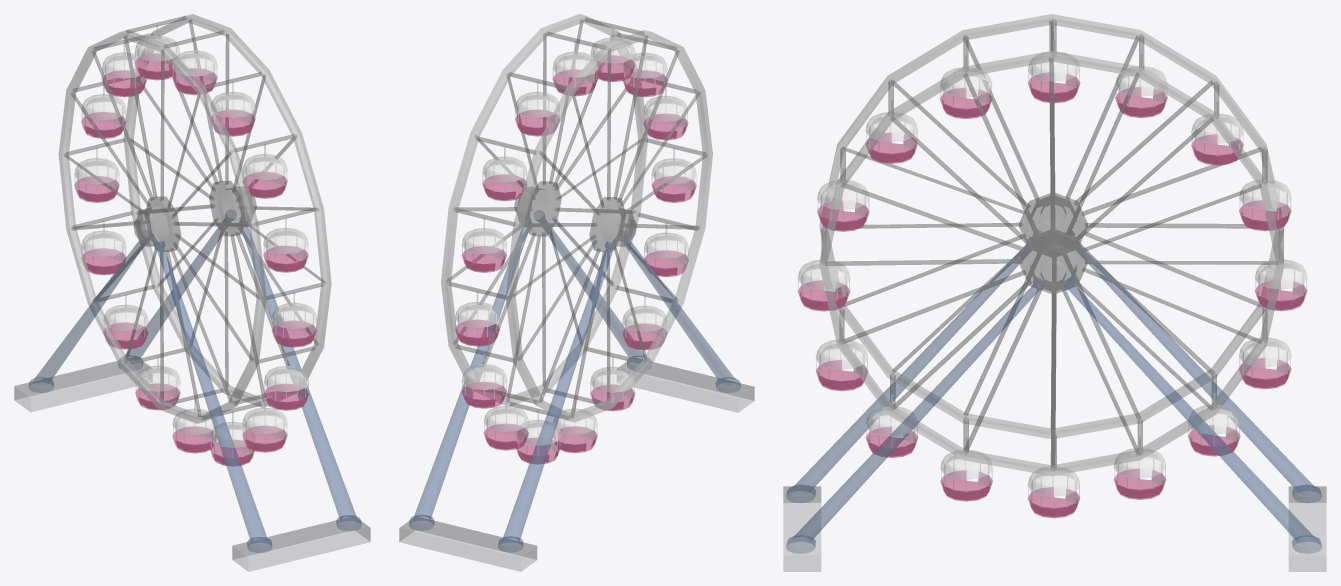
The model's file is 01ferriswheel.gltf.
The picture shows the model from 3 angles, left to right: view 1: azimuth 30°, elevation 25°; view 2: azimuth 150°, elevation 25°; view 3: azimuth 270°, elevation 25°; orthographic projection. The views are drawn at different scales.
Visible parts, largest first — view 1: SM_FerrisWheel_02; view 2: SM_FerrisWheel_02; view 3: SM_FerrisWheel_02.
Part boxes in pixels (x1=…): SM_FerrisWheel_02: x1=14, y1=14, x2=370, y2=571; SM_FerrisWheel_02: x1=399, y1=14, x2=754, y2=571; SM_FerrisWheel_02: x1=783, y1=14, x2=1326, y2=571.
Bounding box in the file's own units: 14.97 × 50.92 × 49.75.
